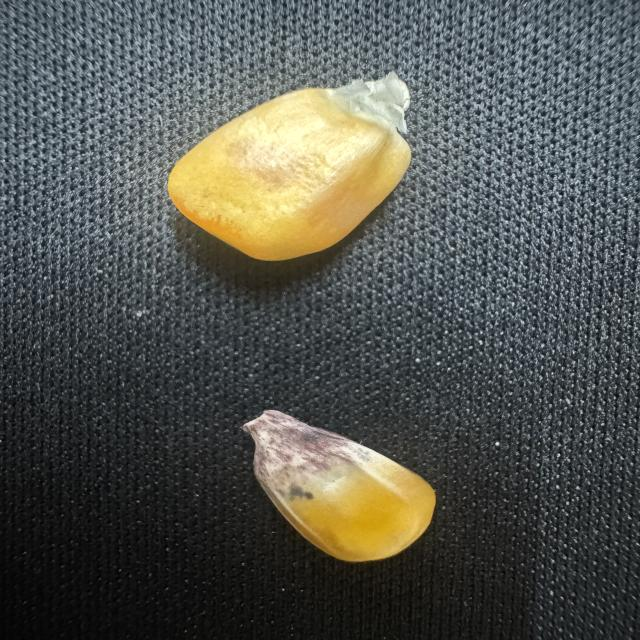Bad-Seed: (231, 399, 462, 580)
Good-Seed: (153, 61, 424, 262)
